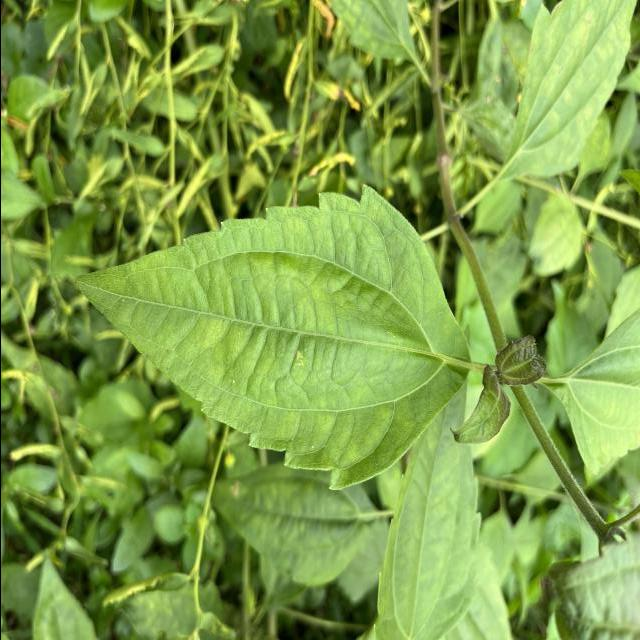Chromolaena odorata: (65, 178, 478, 498)
